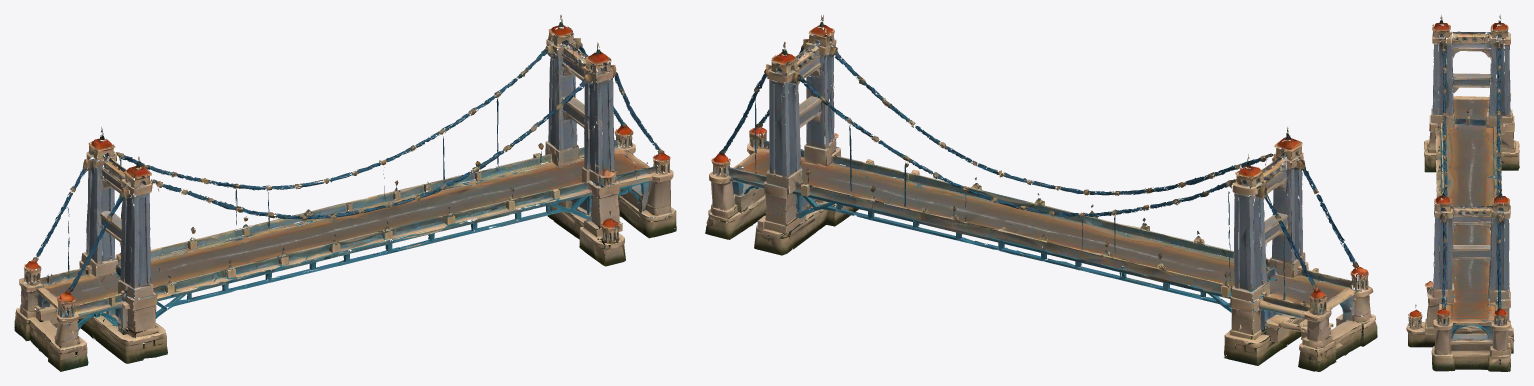
File: base_basic_pbr.glb
The picture shows the model from 3 angles, left to right: view 1: azimuth 30°, elevation 25°; view 2: azimuth 150°, elevation 25°; view 3: azimuth 270°, elevation 25°; orthographic projection. The views are drawn at different scales.
Parts seen in each view (by area): view 1: model; view 2: model; view 3: model.
Boxes of the visible parts, <box> form: model: <box>14,14,676,371</box>; model: <box>705,15,1377,371</box>; model: <box>1406,14,1519,371</box>.
Size of the model in its own units: 1.9 by 0.6029 by 0.3913.
Materials: 1 (1 with a texture image).
